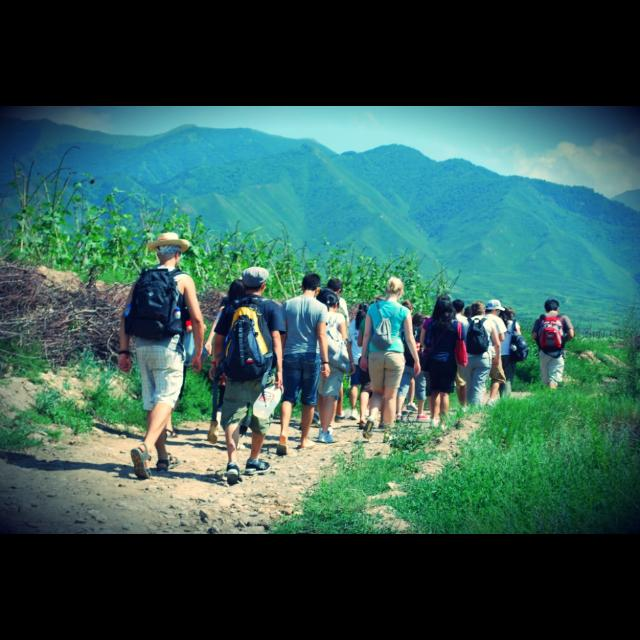head: (156, 240, 184, 268), (242, 266, 268, 296), (316, 290, 340, 316), (302, 273, 322, 297), (386, 277, 404, 301), (328, 279, 344, 299), (486, 300, 502, 318), (438, 301, 454, 317), (471, 302, 487, 318), (438, 298, 452, 316), (412, 314, 426, 330), (545, 300, 561, 314), (501, 307, 515, 321), (360, 303, 372, 319), (401, 302, 414, 316)
person: (112, 227, 210, 488), (210, 265, 288, 489), (274, 272, 334, 460), (358, 274, 422, 444), (304, 290, 358, 448), (307, 276, 357, 426), (422, 298, 470, 434), (418, 292, 464, 426), (461, 300, 505, 420), (530, 298, 574, 412), (345, 300, 383, 430), (387, 298, 423, 426), (470, 298, 508, 414), (492, 306, 530, 410), (402, 310, 434, 416)
